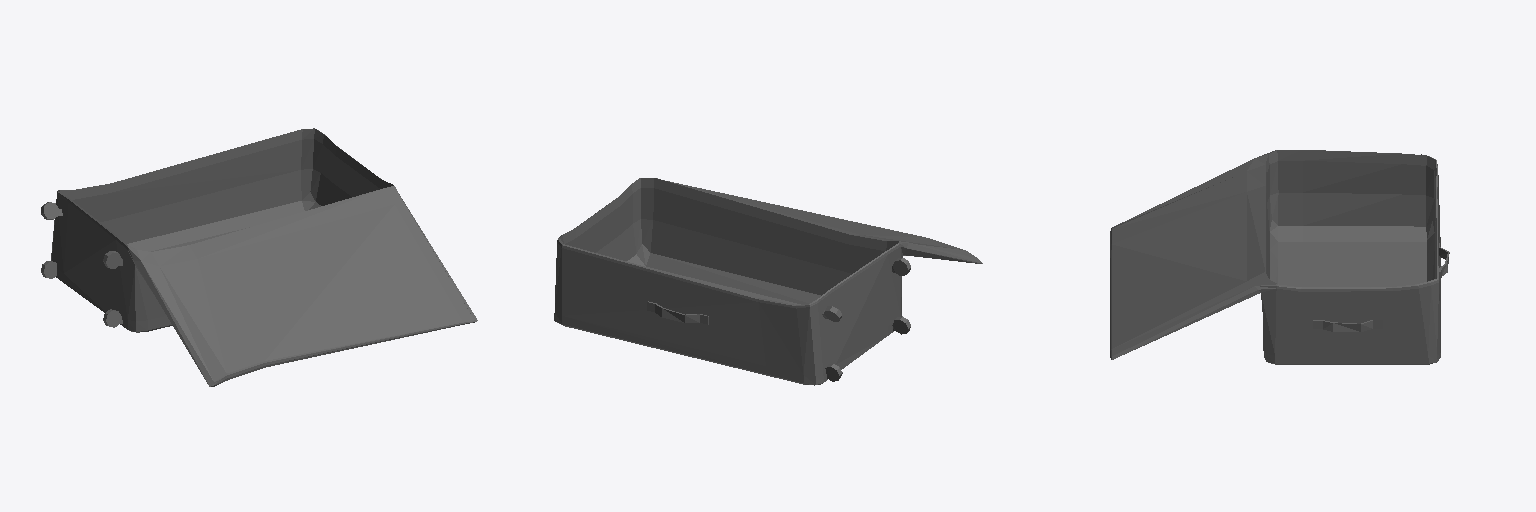
Rendered from Suitcase.obj.
3 renders of one model, left to right at view 1: azimuth 30°, elevation 25°; view 2: azimuth 150°, elevation 25°; view 3: azimuth 270°, elevation 25°, orthographic.
Parts seen in each view (by area): view 1: Suitcase; view 2: Suitcase; view 3: Suitcase.
Boxes of the visible parts, x1,y1,x2,y2 form: Suitcase: [41, 128, 477, 386]; Suitcase: [554, 178, 982, 385]; Suitcase: [1110, 150, 1449, 364].
Bounding box in the file's own units: 33.97 × 9.7 × 34.04.